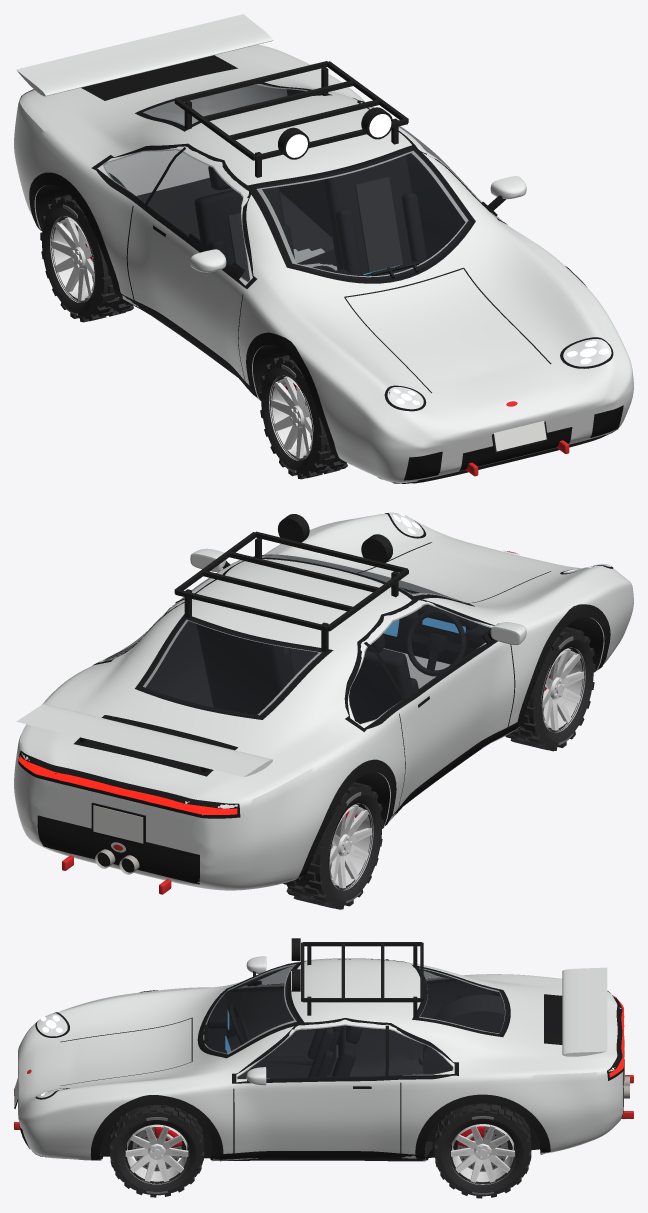
The model's file is dakar.glb.
3 renders of one model, top to bottom at view 1: azimuth 30°, elevation 25°; view 2: azimuth 150°, elevation 25°; view 3: azimuth 270°, elevation 25°, orthographic. The views are drawn at different scales.
Visible parts, largest first — view 1: Body, Wheel_RR, Wheel_FR; view 2: Body, Wheel_RR, Wheel_FR; view 3: Body, Wheel_RL, Wheel_FL.
Part boxes in pixels (x1,y1,x2,y2): Body: [14, 14, 633, 483]; Wheel_RR: [40, 194, 133, 322]; Wheel_FR: [259, 355, 347, 479]; Body: [14, 512, 633, 894]; Wheel_RR: [283, 782, 383, 909]; Wheel_FR: [505, 627, 595, 751]; Body: [14, 938, 633, 1161]; Wheel_RL: [434, 1103, 531, 1198]; Wheel_FL: [110, 1104, 204, 1197].
Size of the model in its own units: 2.18 by 1.6 by 4.68.
